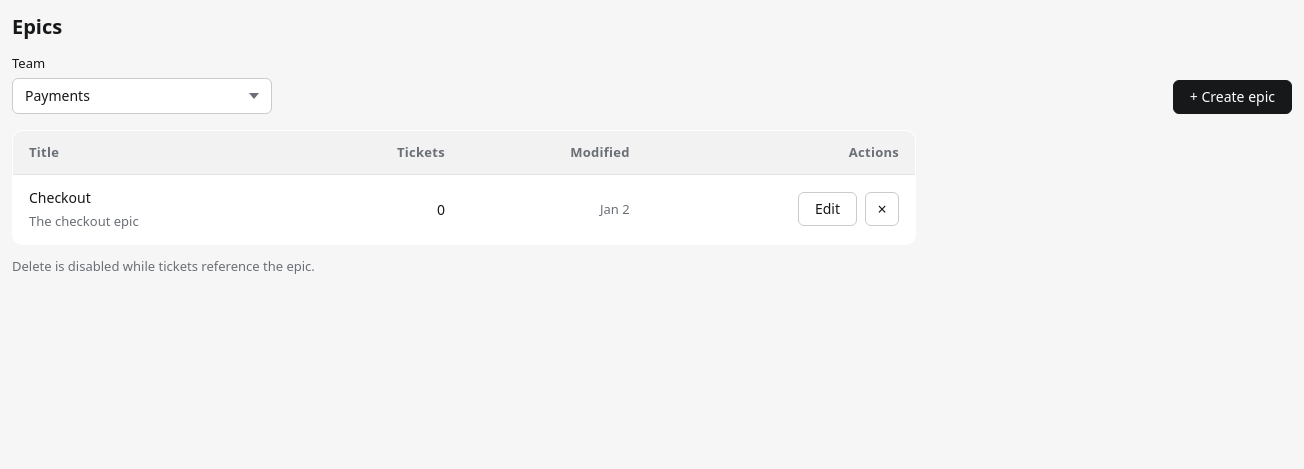
Test: Edit epic (team immutable) › edit panel has no team field/selector
Click the button "Edit" at [827, 209], box 798,192 -> 857,226
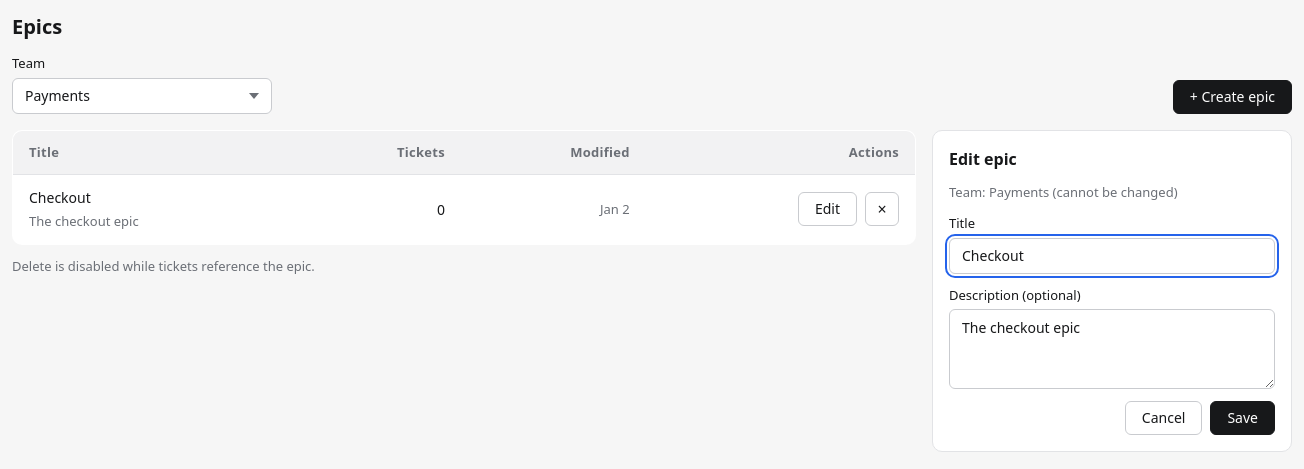
Now the field labelled "Title" is shown, box 949,238 -> 1275,274
Now the text box labelled "Description (optional)" is shown, box 949,309 -> 1275,389
